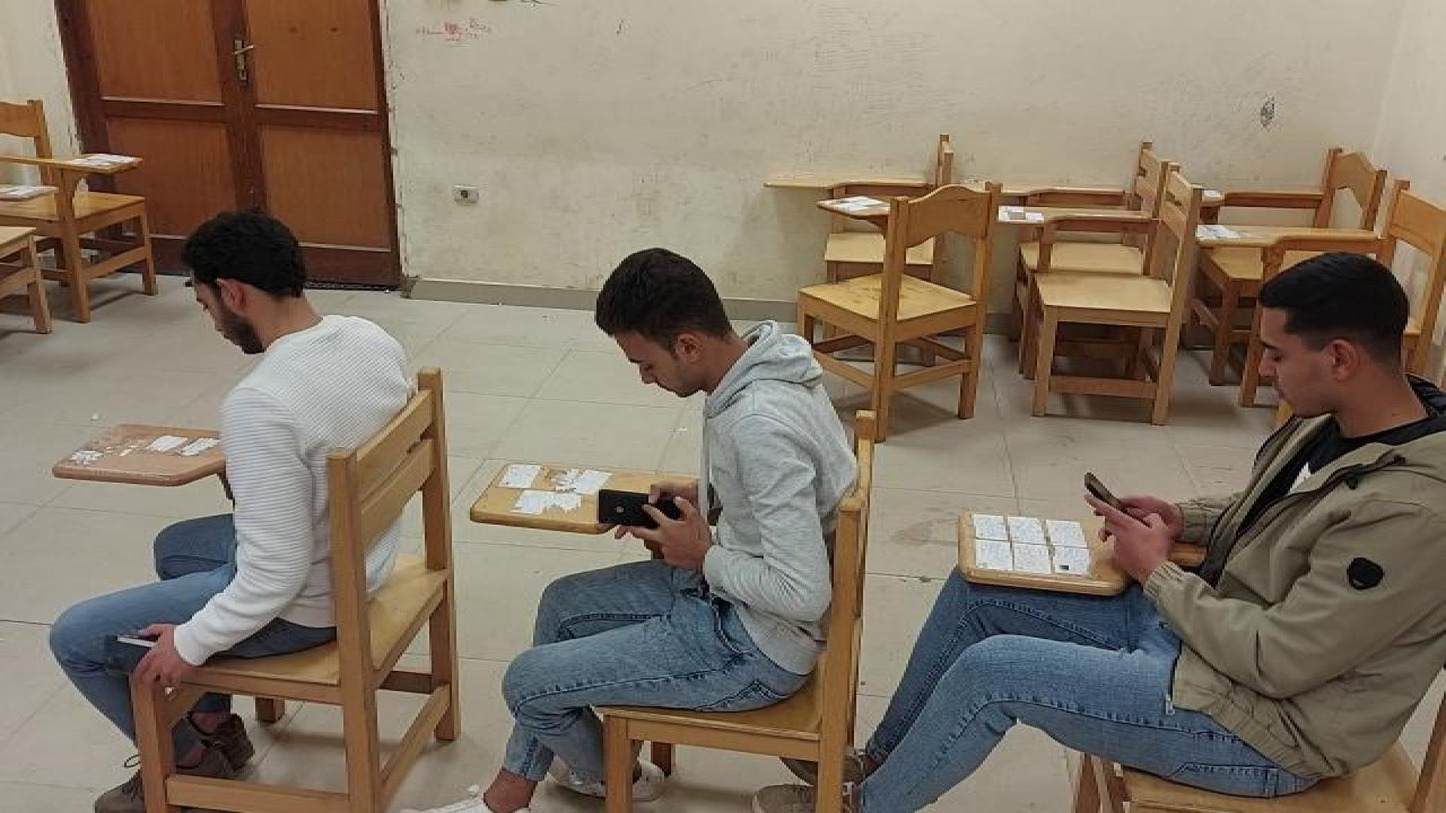phone: (594, 490, 685, 534), (1082, 467, 1134, 524), (102, 631, 165, 675)
